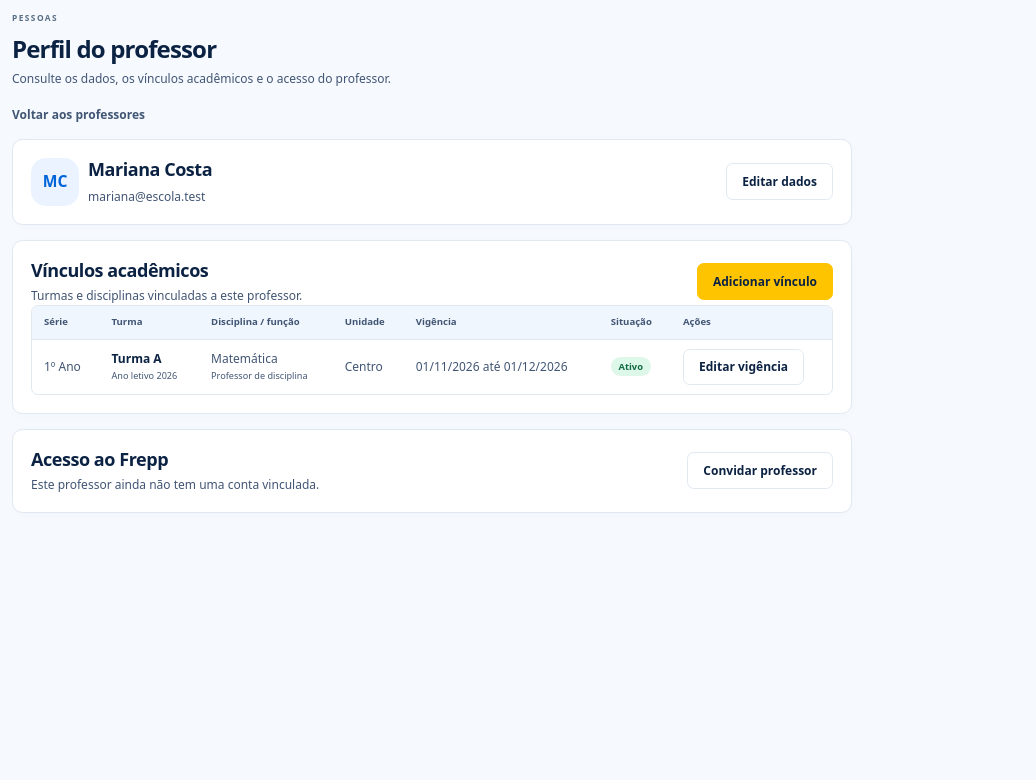
Test: Cadastro de professores › edita a vigência de um vínculo existente e mantém a data final em aberto
Click the button "Editar vigência" at (744, 366), box [683,348,804,384]
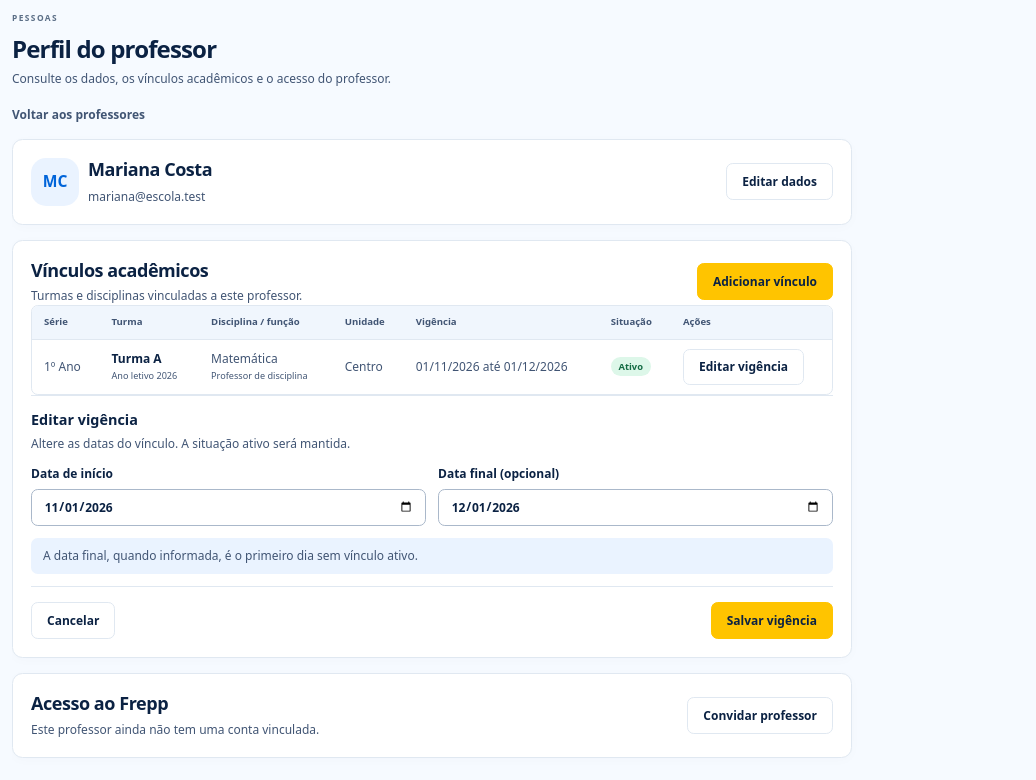
Type "2026-10-25" into the date field labelled "Data de início" at (228, 507), box [44,498,413,517]
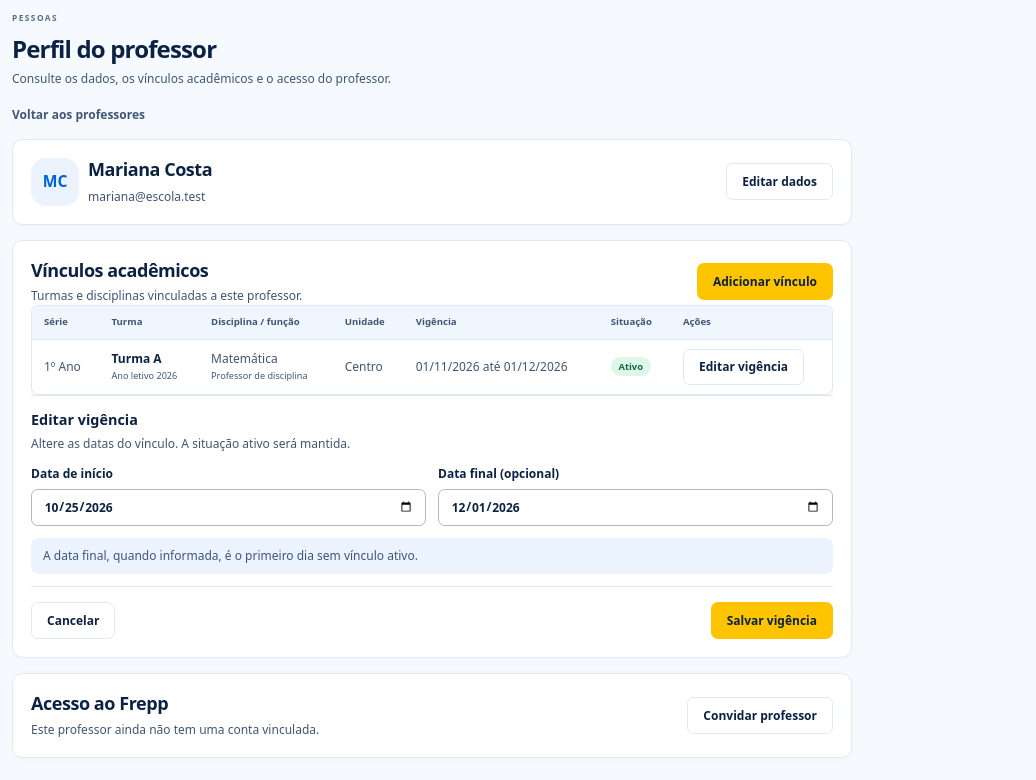
Clear the date field labelled "Data final (opcional)" at (636, 507), box [451,498,820,517]
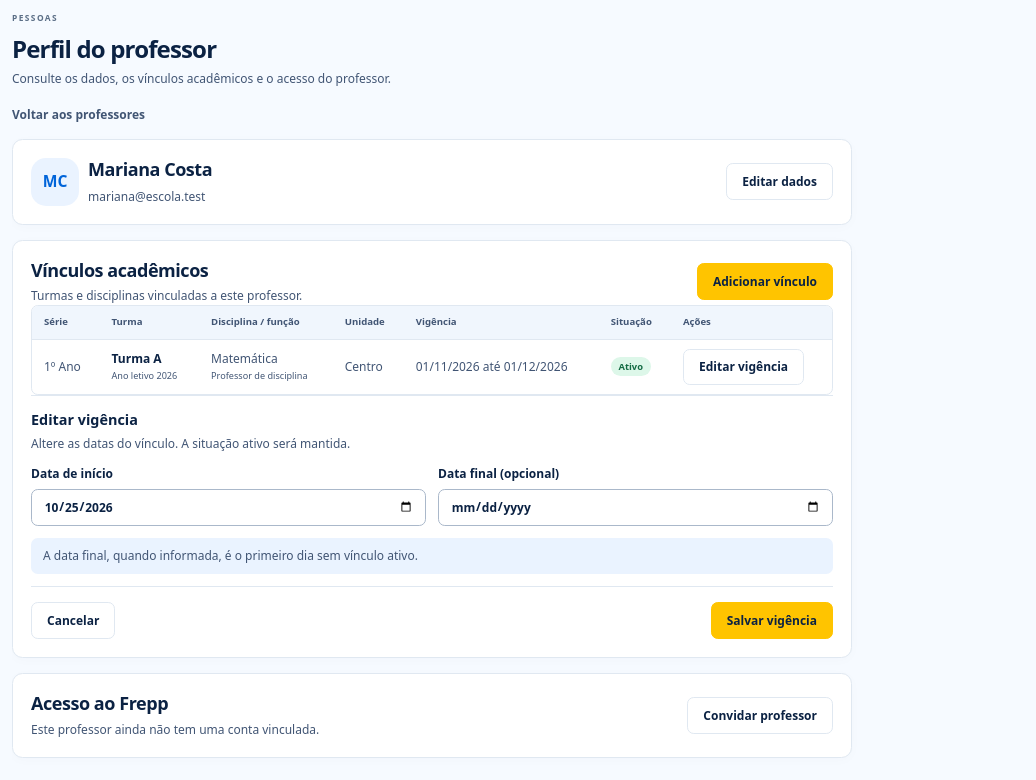
Click the button "Salvar vigência" at (772, 620), box [711,602,833,639]
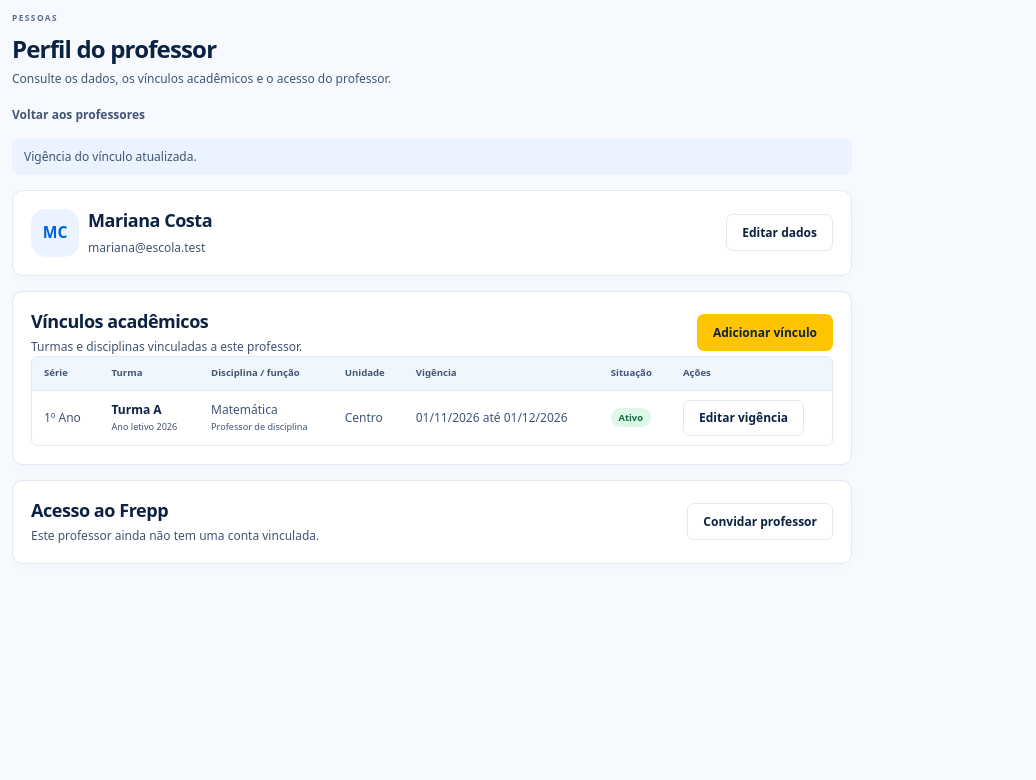
expect the text "Vigência do vínculo atualizada." is shown: met, box [12,139,852,175]
